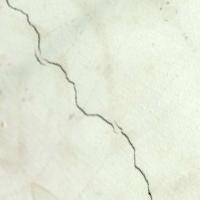crack: (8, 0, 156, 199)
